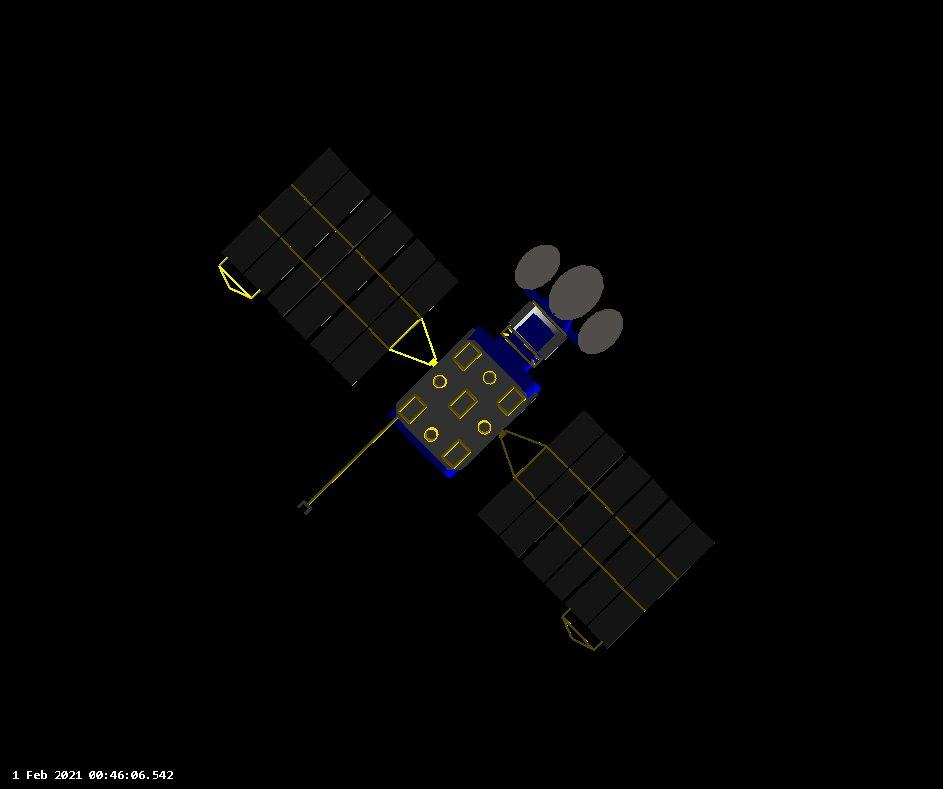antenna: (294, 409, 404, 519), (545, 264, 605, 321), (514, 240, 562, 293), (576, 308, 626, 355), (430, 373, 449, 391), (477, 419, 493, 436), (481, 370, 498, 385), (424, 426, 439, 443)
body: (386, 287, 582, 481)
solar: (475, 406, 720, 655), (215, 143, 461, 389)
